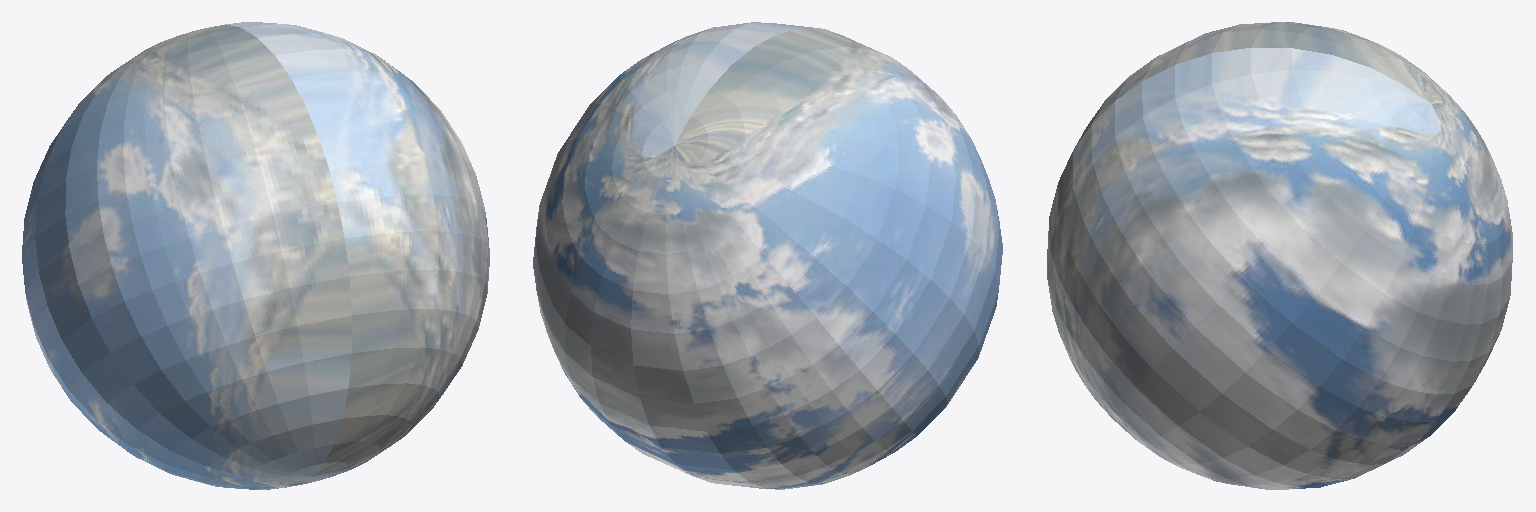
3 views of the same model, side by side, from view 1: azimuth 30°, elevation 25°; view 2: azimuth 150°, elevation 25°; view 3: azimuth 270°, elevation 25° (orthographic).
Parts seen in each view (by area): view 1: SurfSphere; view 2: SurfSphere; view 3: SurfSphere.
Boxes of the visible parts, <box> form: SurfSphere: <box>22,22,489,489</box>; SurfSphere: <box>533,22,1002,489</box>; SurfSphere: <box>1047,22,1512,489</box>.
Bounding box in the file's own units: 61.02 × 61 × 60.77.
1 materials, 1 textured.